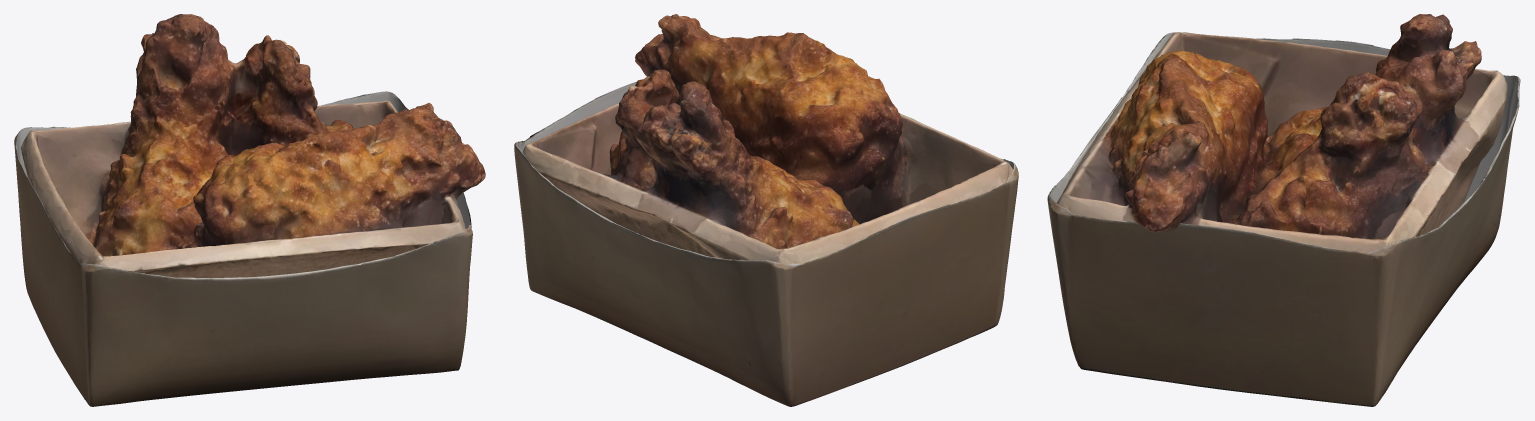
Rendered from wings.glb.
The picture shows the model from 3 angles, left to right: view 1: azimuth 30°, elevation 25°; view 2: azimuth 150°, elevation 25°; view 3: azimuth 270°, elevation 25°; orthographic projection. The views are drawn at different scales.
Parts seen in each view (by area): view 1: /Root/Scenes/Scene/Object_46/Object_47/Submesh_0, /Root/Scenes/Scene/Object_46/Object_50/Object_51/Submesh_0; view 2: /Root/Scenes/Scene/Object_46/Object_47/Submesh_0, /Root/Scenes/Scene/Object_46/Object_50/Object_51/Submesh_0; view 3: /Root/Scenes/Scene/Object_46/Object_47/Submesh_0, /Root/Scenes/Scene/Object_46/Object_50/Object_51/Submesh_0.
Part boxes in pixels (left/top/right/bottom): /Root/Scenes/Scene/Object_46/Object_47/Submesh_0: left=20, top=14, right=485, bottom=277; /Root/Scenes/Scene/Object_46/Object_50/Object_51/Submesh_0: left=14, top=91, right=472, bottom=406; /Root/Scenes/Scene/Object_46/Object_47/Submesh_0: left=522, top=14, right=1013, bottom=264; /Root/Scenes/Scene/Object_46/Object_50/Object_51/Submesh_0: left=514, top=81, right=1018, bottom=406; /Root/Scenes/Scene/Object_46/Object_47/Submesh_0: left=1057, top=14, right=1507, bottom=252; /Root/Scenes/Scene/Object_46/Object_50/Object_51/Submesh_0: left=1047, top=32, right=1520, bottom=406.
Size of the model in its own units: 0.1389 by 0.0869 by 0.1274.
Materials: 2 (2 with a texture image).
